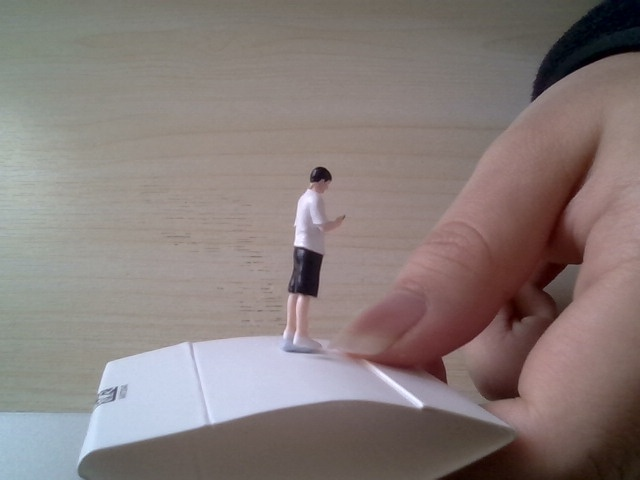walk: (274, 157, 349, 357)
